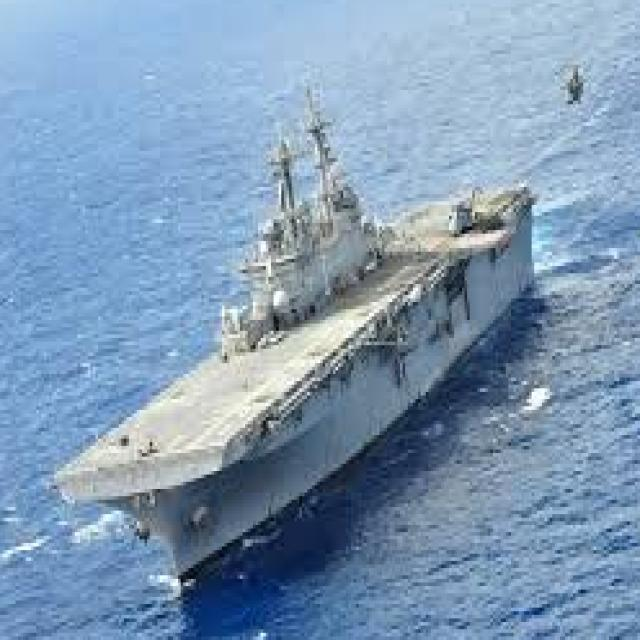navalvessels: (38, 64, 563, 582)
